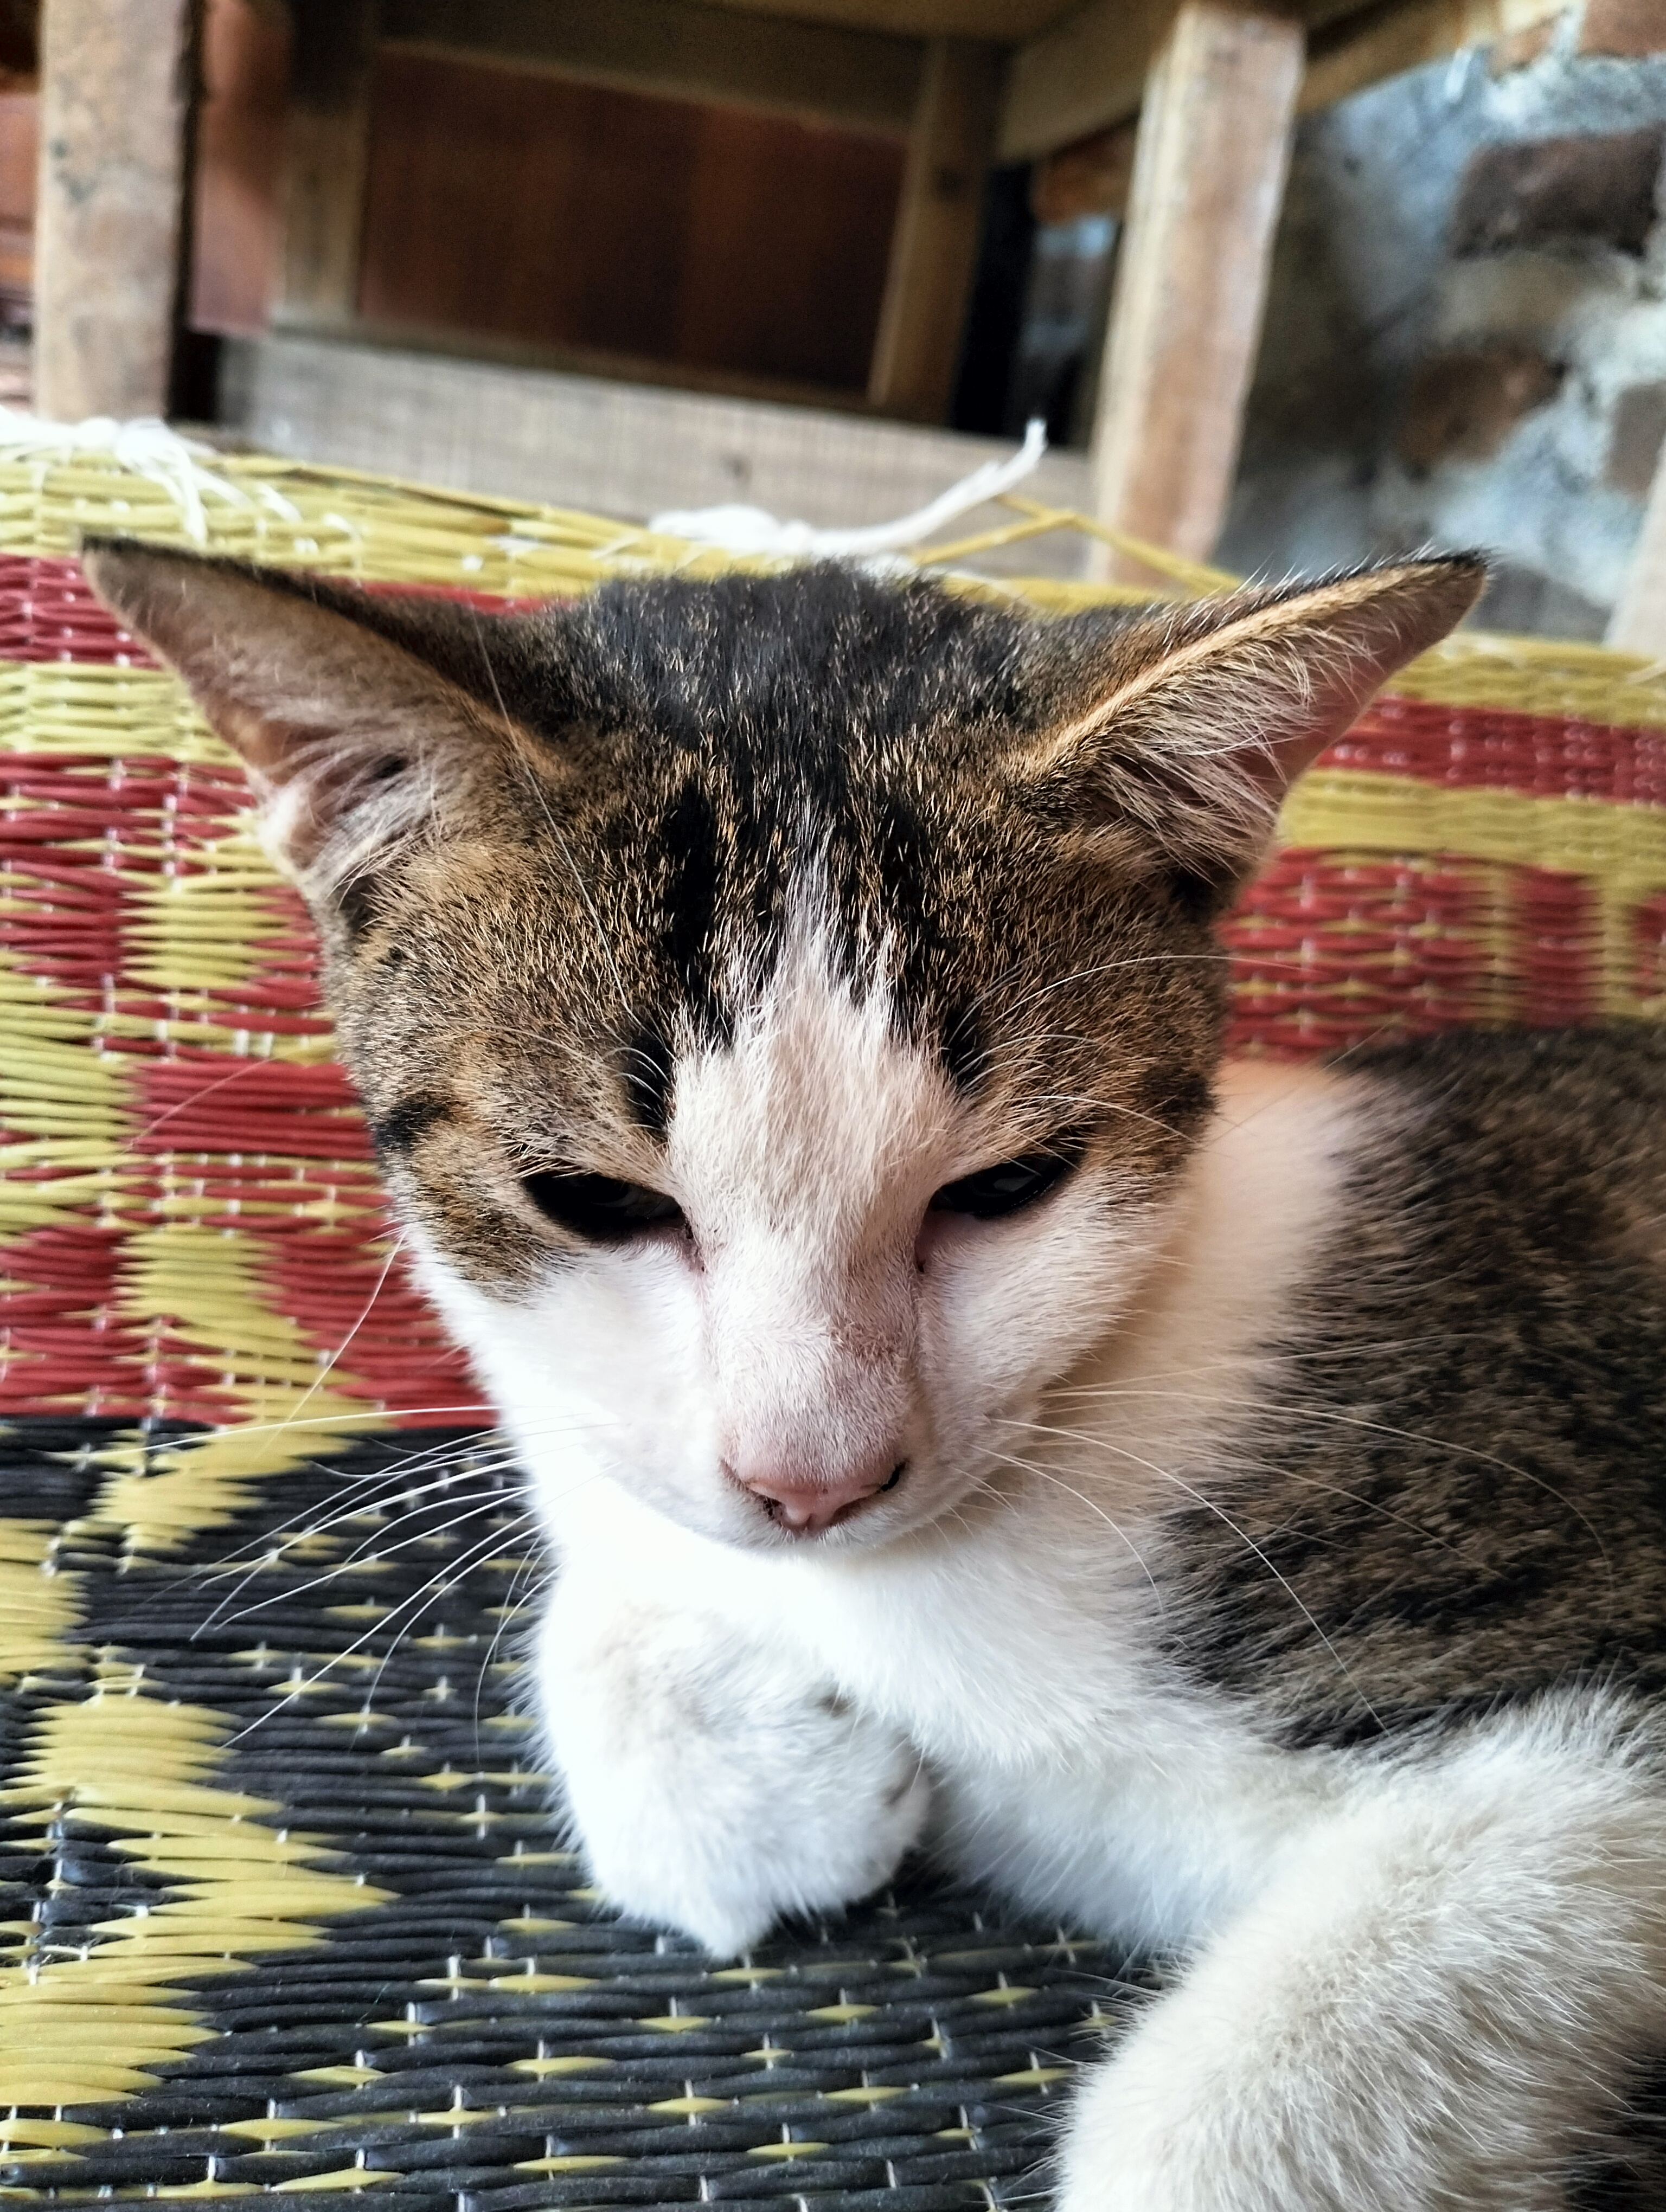miki: (62, 484, 1553, 1609)
